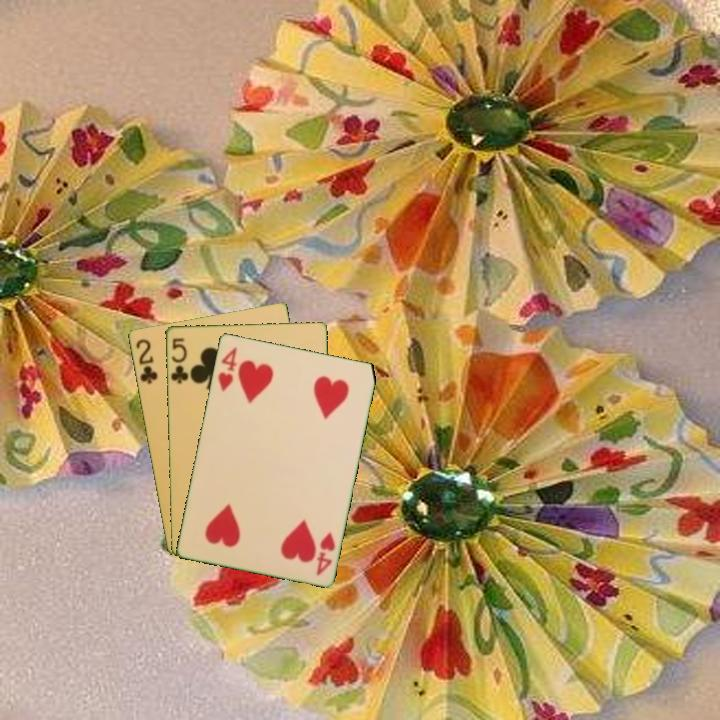2c: (132, 335, 160, 386)
4h: (214, 343, 240, 394), (312, 528, 338, 578)
5c: (167, 334, 191, 386)
